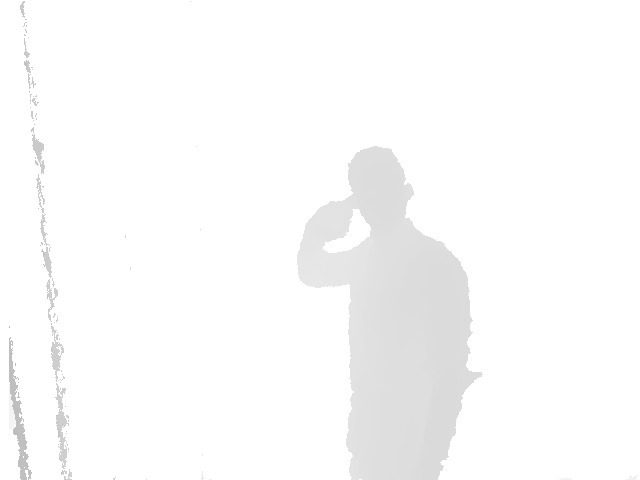head: (347, 146, 414, 229)
person: (294, 147, 483, 480)
